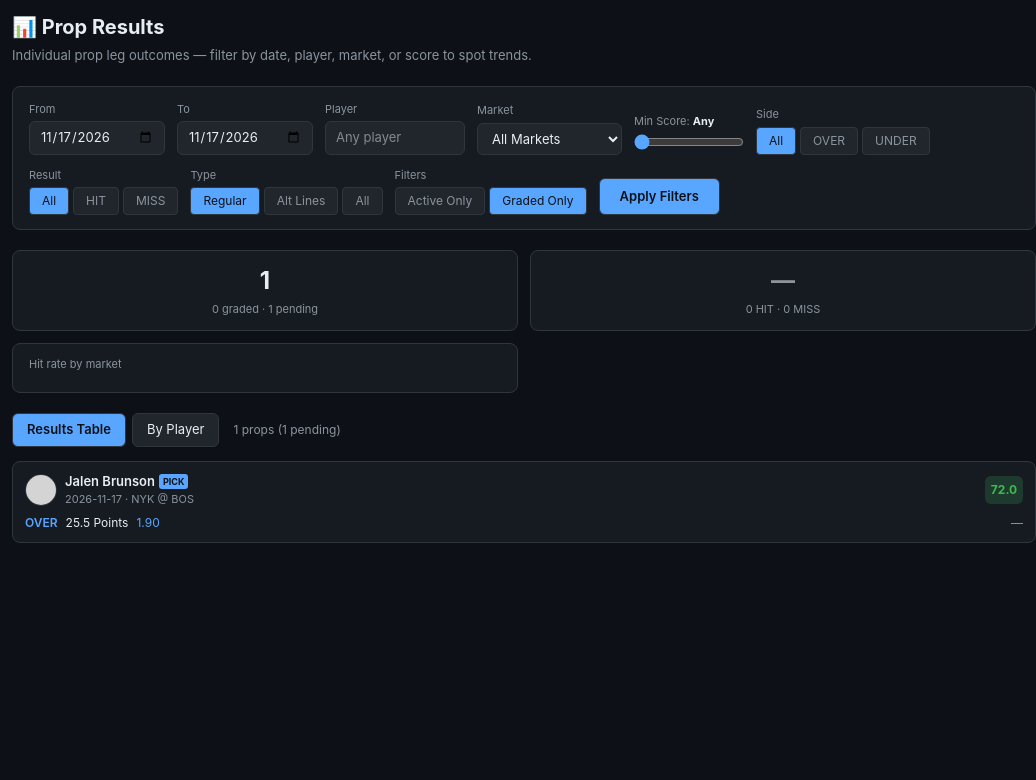
PropResultsPage › uses cards on mobile for both views
Expected: the text "0 graded · 1 pending" is shown, [212,302,318,316]
Expected: the 1st text "—" is shown, [771,266,795,295]
Click the button "By Player": {"x": 176, "y": 430} [132,413,220,446]
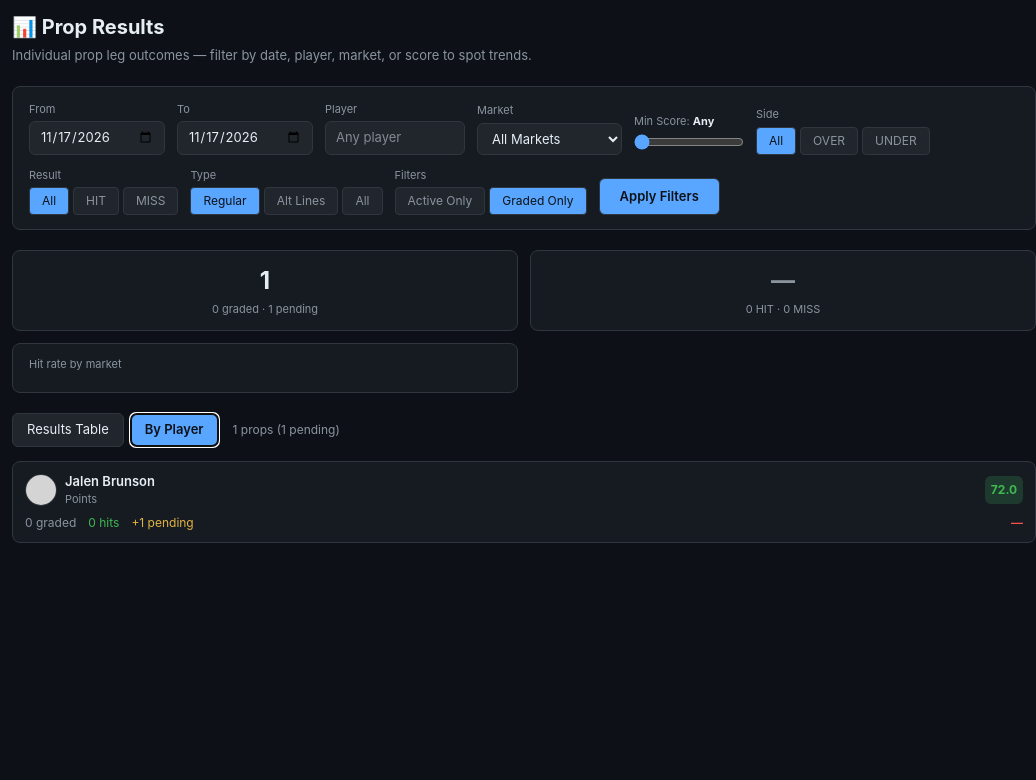
Expected: the text "+1 pending" is shown, [131,514,194,532]
Expected: the text "0 graded" is shown, [25,514,76,532]
